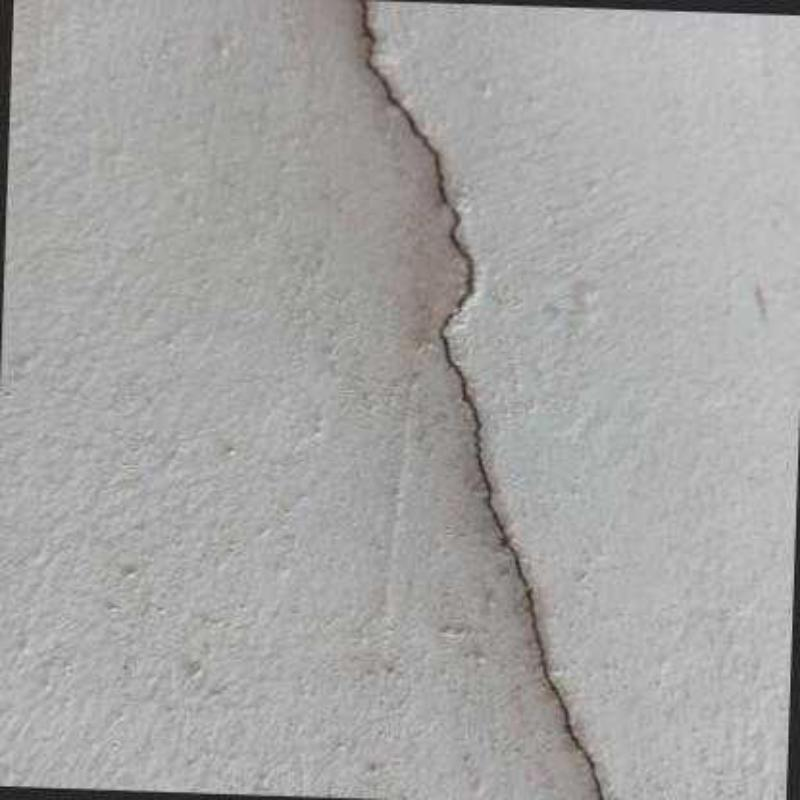pothole: (358, 0, 606, 798)
